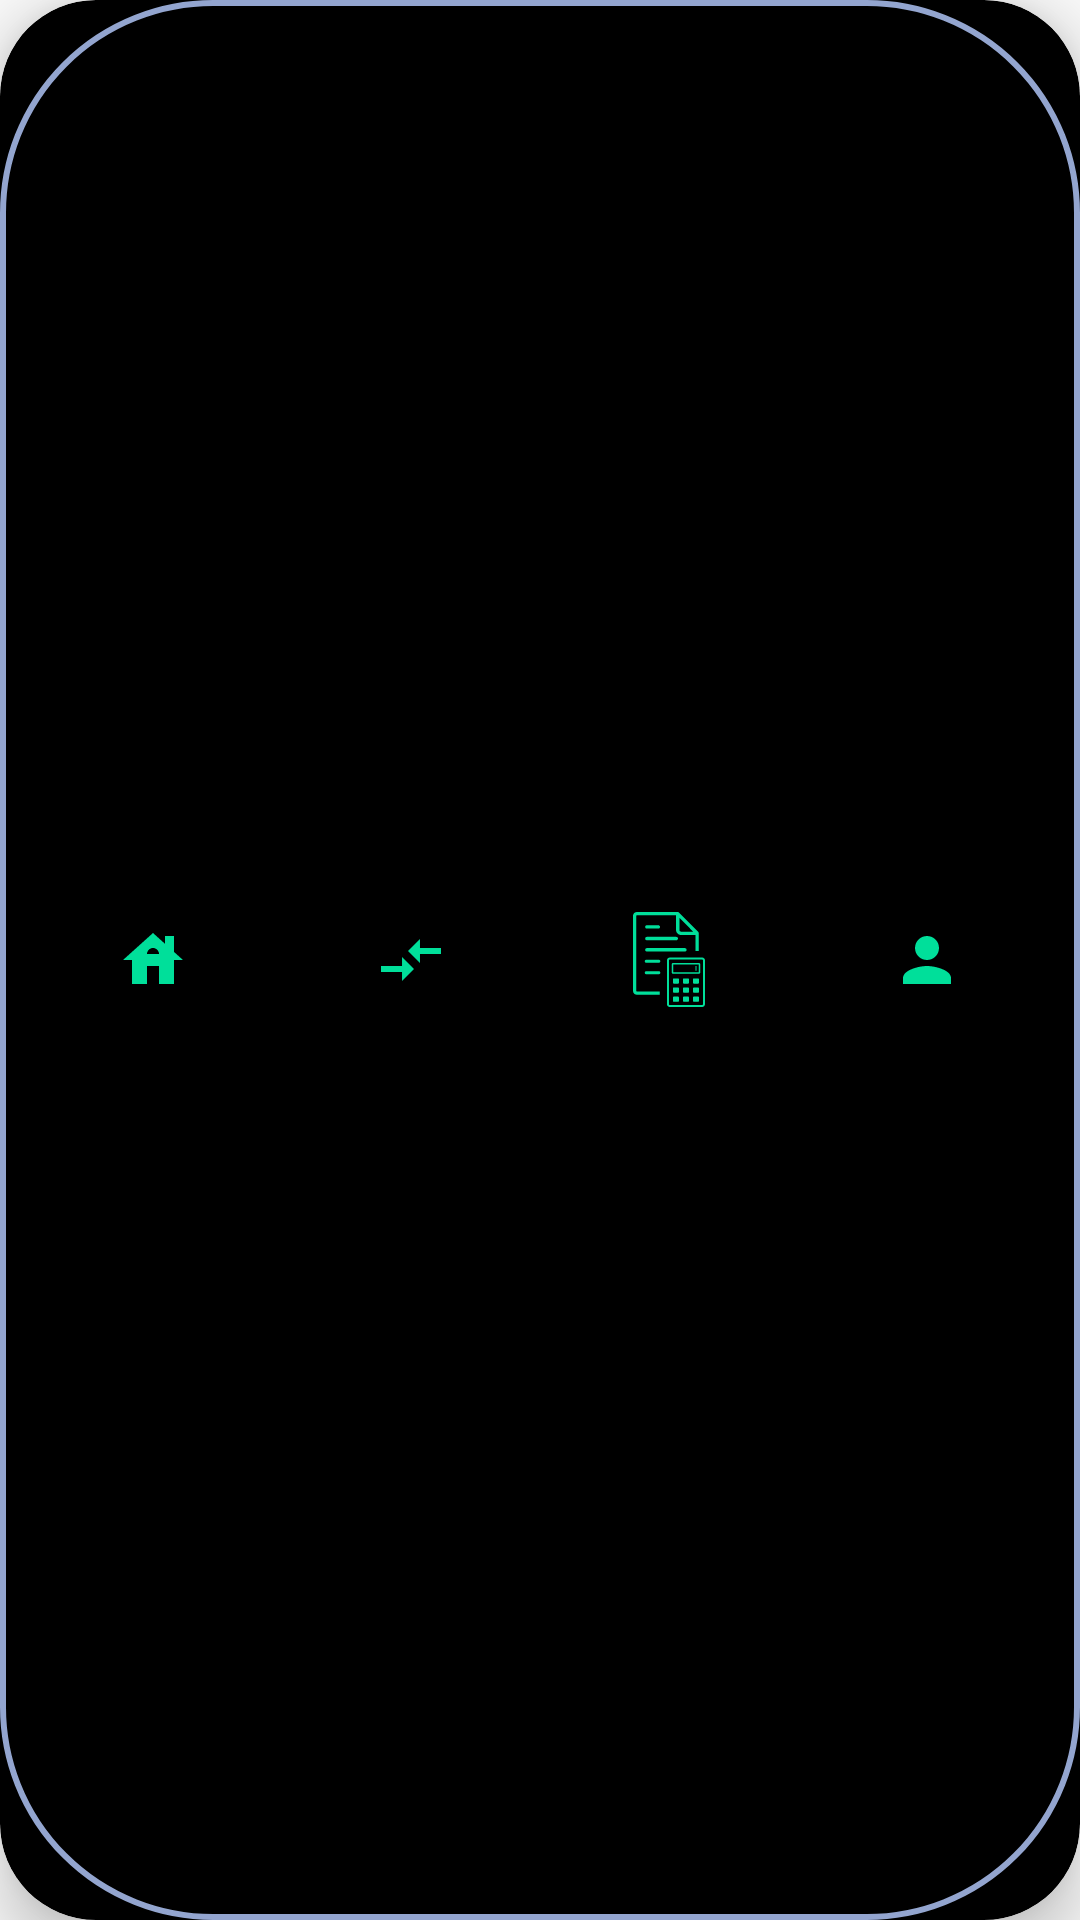

Icon bounding boxes for this 1080 × 1920 phone screenshot, format (x1, y1, x2, y2):
Home: (123, 933, 183, 984)
Transactions: (381, 939, 441, 981)
User Profile: (903, 936, 951, 984)
